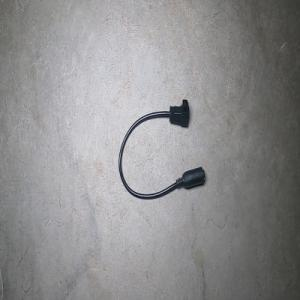Wire: (118, 99, 205, 199)
